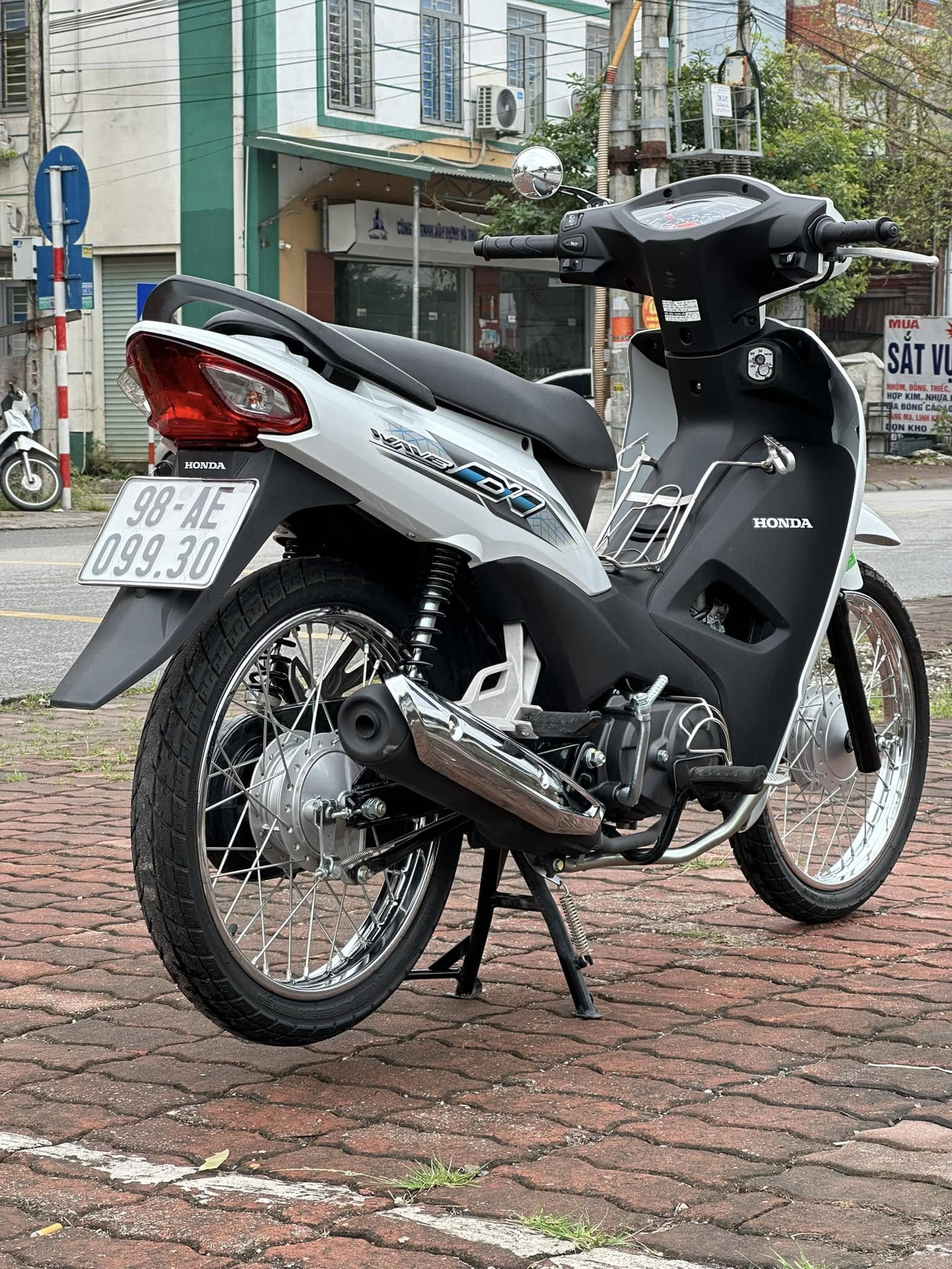bien_so: (67, 452, 268, 617)
